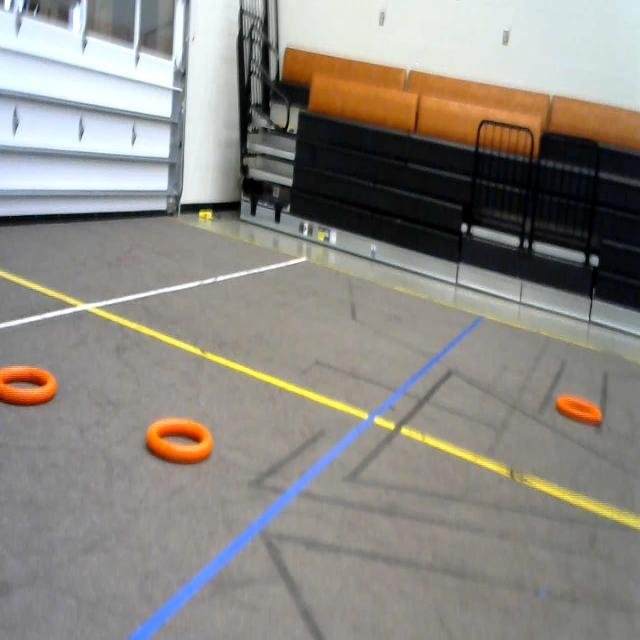note: (0, 360, 66, 430), (140, 410, 218, 468), (554, 382, 609, 442)
